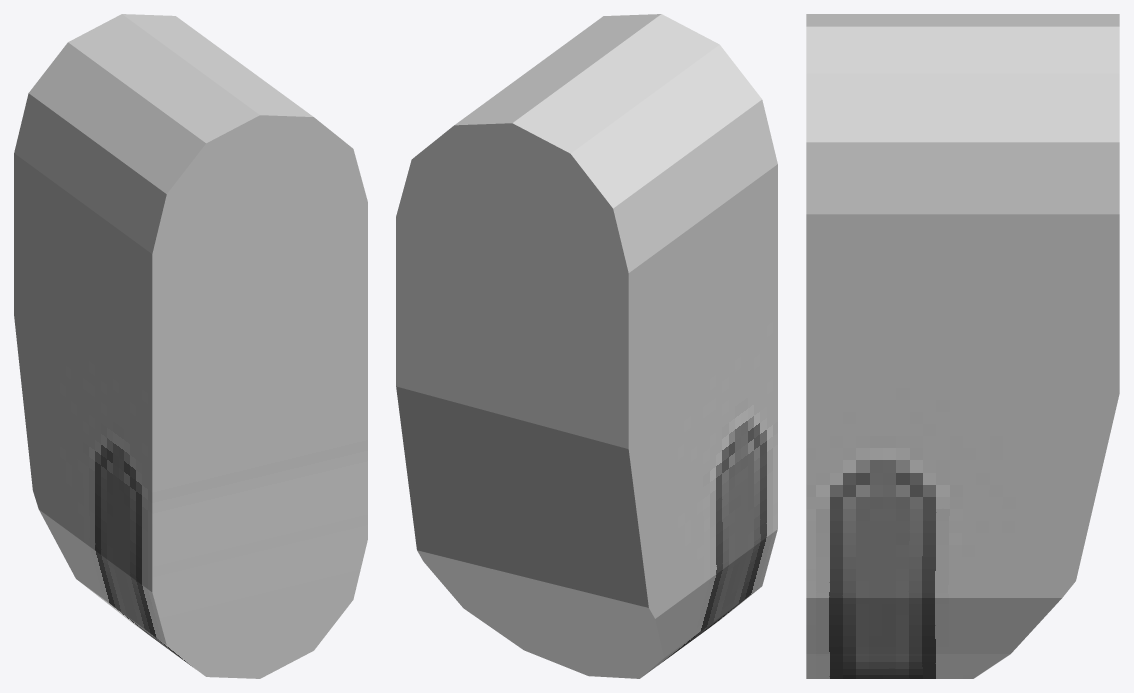
The model's file is R_LLITTLE_S.dae.
3 renders of one model, left to right at view 1: azimuth 30°, elevation 25°; view 2: azimuth 150°, elevation 25°; view 3: azimuth 270°, elevation 25°, orthographic. The views are drawn at different scales.
Visible parts, largest first — view 1: root; view 2: root; view 3: root.
Boxes of the visible parts, x1,y1,x2,y2 form: root: (14, 14, 367, 678); root: (396, 14, 777, 678); root: (806, 14, 1119, 678).
Size of the model in its own units: 0.018 by 0.02 by 0.045.
Materials: 1 (1 with a texture image).
